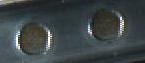joints: (13, 18, 54, 57), (87, 5, 126, 43)
